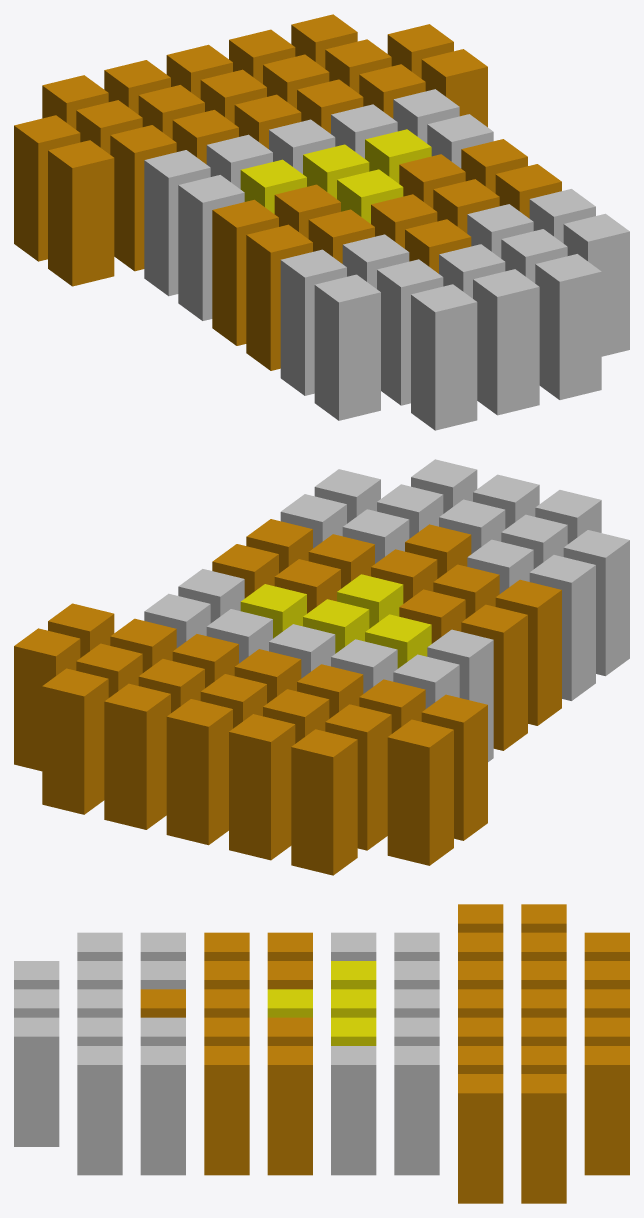
Rendered from CoffeeCupMesh.fbx.
The picture shows the model from 3 angles, top to bottom: view 1: azimuth 30°, elevation 25°; view 2: azimuth 150°, elevation 25°; view 3: azimuth 270°, elevation 25°; orthographic projection. The views are drawn at different scales.
Parts seen in each view (by area): view 1: CoffeeCupMesh; view 2: CoffeeCupMesh; view 3: CoffeeCupMesh.
Boxes of the visible parts, box(x1,y1,x2,y2) form: CoffeeCupMesh: box(14, 14, 629, 430); CoffeeCupMesh: box(14, 459, 629, 875); CoffeeCupMesh: box(14, 904, 629, 1203).
Bounding box in the file's own units: 31.04 × 8.45 × 42.79.
